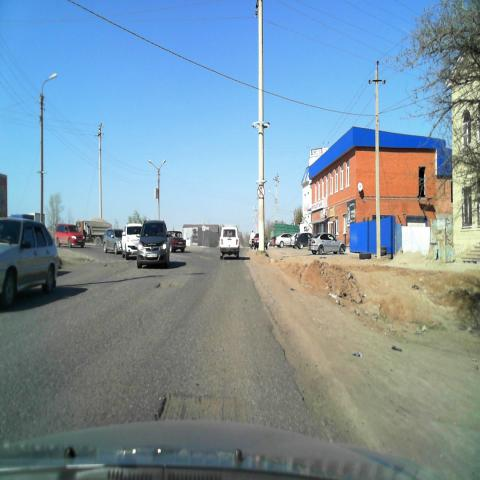3_19: (257, 184, 265, 198)
